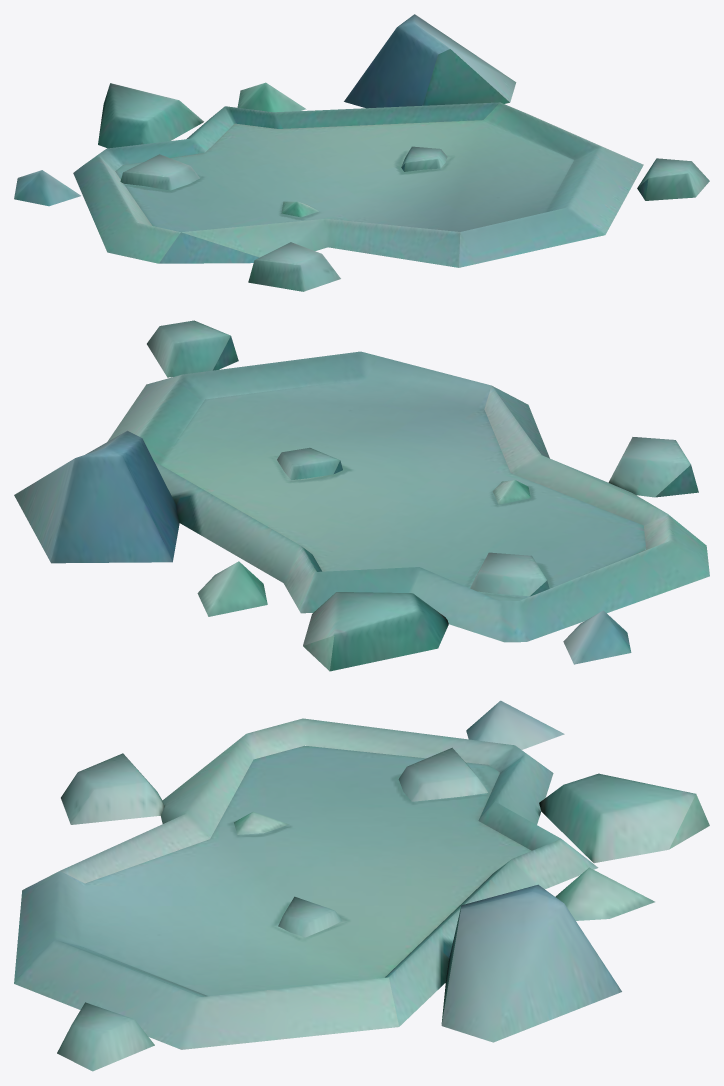
The model's file is Sce_worldmap_quarry_03.FBX.
3 renders of one model, top to bottom at view 1: azimuth 30°, elevation 25°; view 2: azimuth 150°, elevation 25°; view 3: azimuth 270°, elevation 25°, orthographic. The views are drawn at different scales.
Parts seen in each view (by area): view 1: Sce_worldmap_quarry_03; view 2: Sce_worldmap_quarry_03; view 3: Sce_worldmap_quarry_03.
Part boxes in pixels (x1,y1,x2,y2): Sce_worldmap_quarry_03: [14, 14, 709, 291]; Sce_worldmap_quarry_03: [14, 320, 709, 671]; Sce_worldmap_quarry_03: [14, 700, 709, 1071].
Size of the model in its own units: 56.93 by 7.01 by 47.37.
